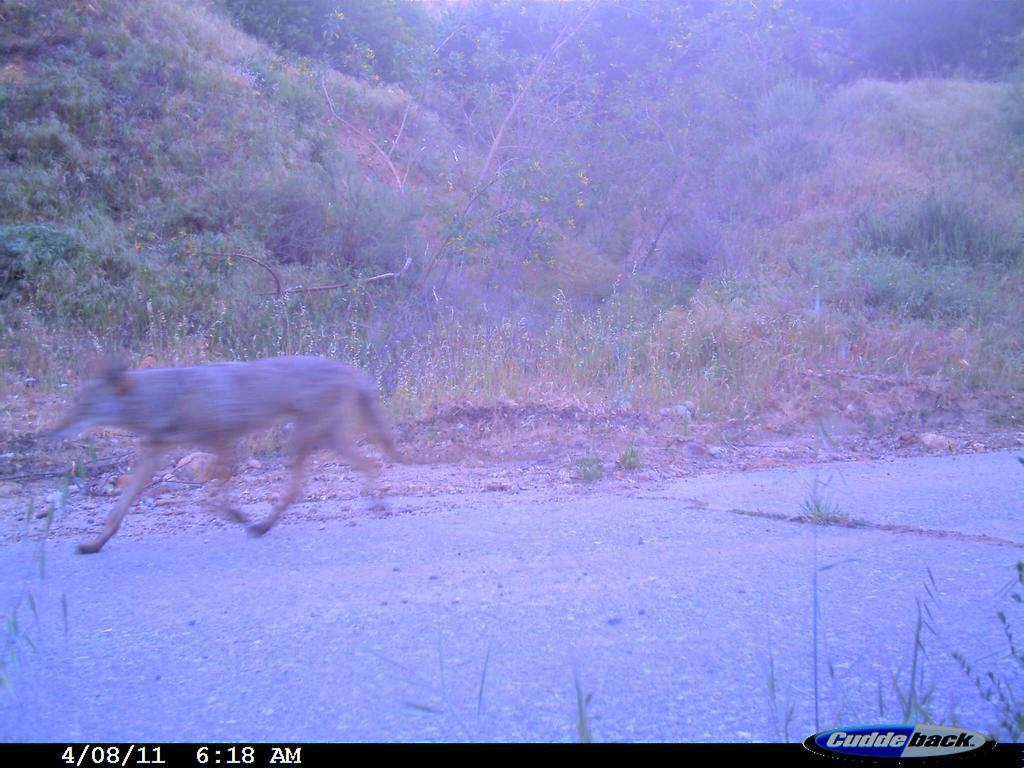coyote: (31, 338, 418, 559)
